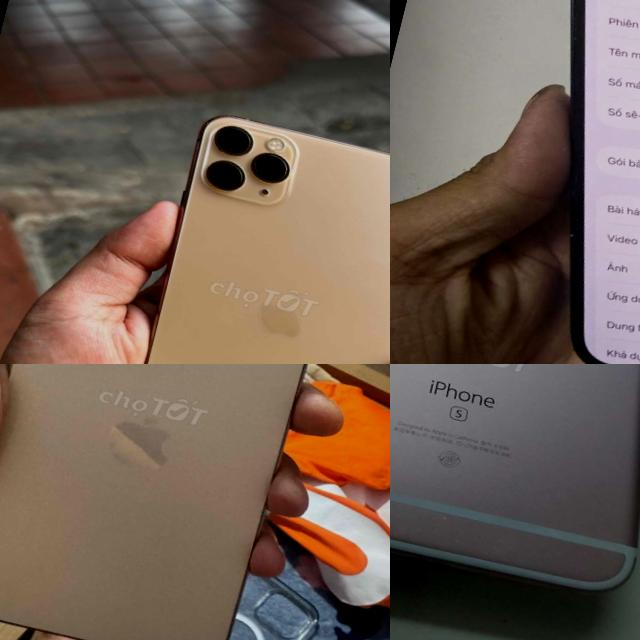gen_11: (103, 95, 390, 364)
gen_12_13: (462, 0, 640, 364)
gen_14: (0, 364, 340, 640)
gen_6: (390, 364, 640, 619)
